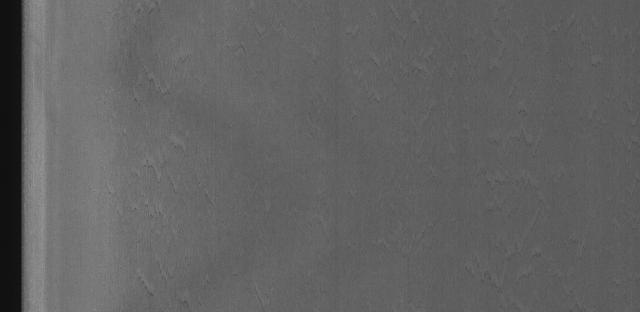silk_spot: (92, 13, 213, 276)
